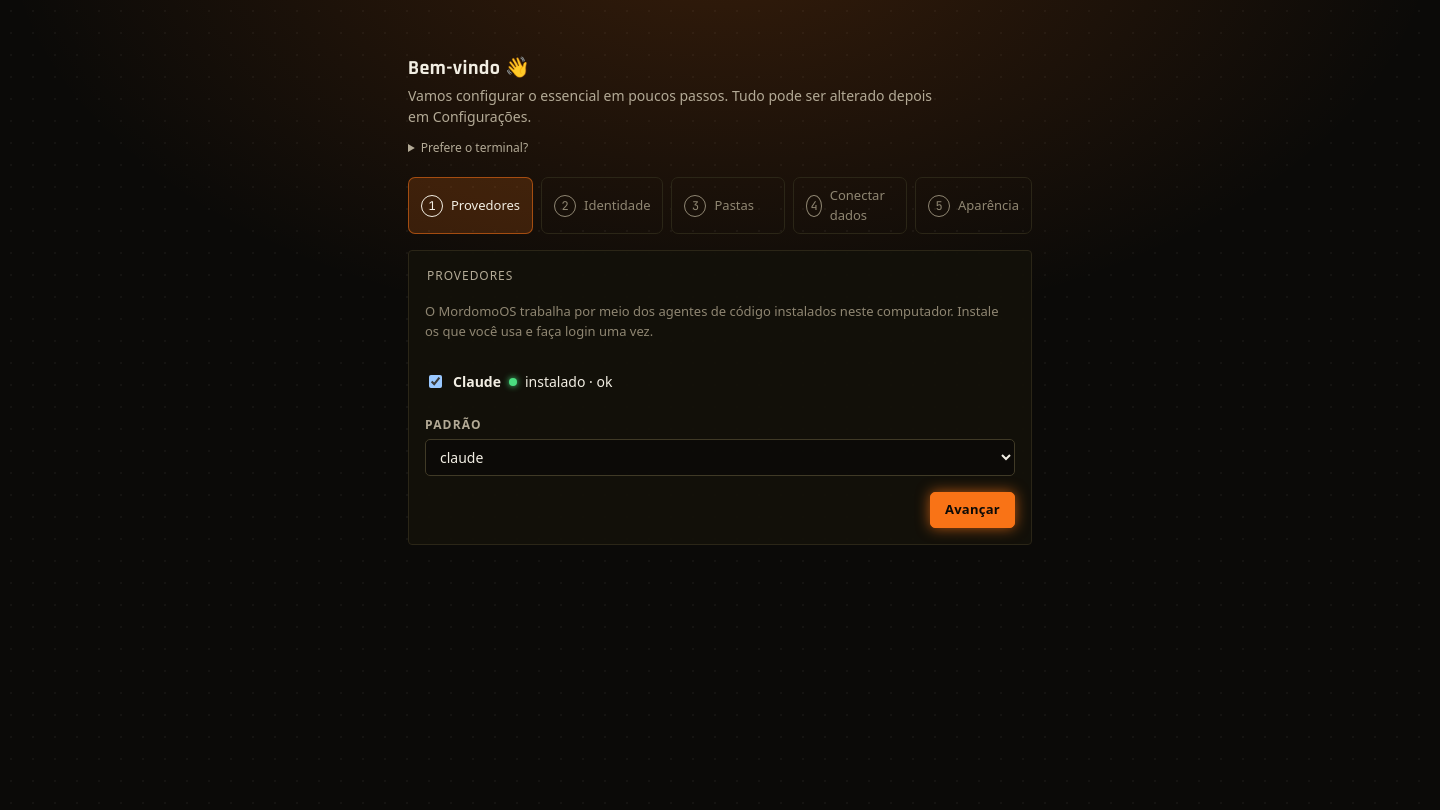
Test case: C10 the steps of the Setup › C10 five steps ending in the appearance, no HUD anywhere (pt-BR)
Click the button "Avançar": [972, 510] box [930, 492, 1015, 528]
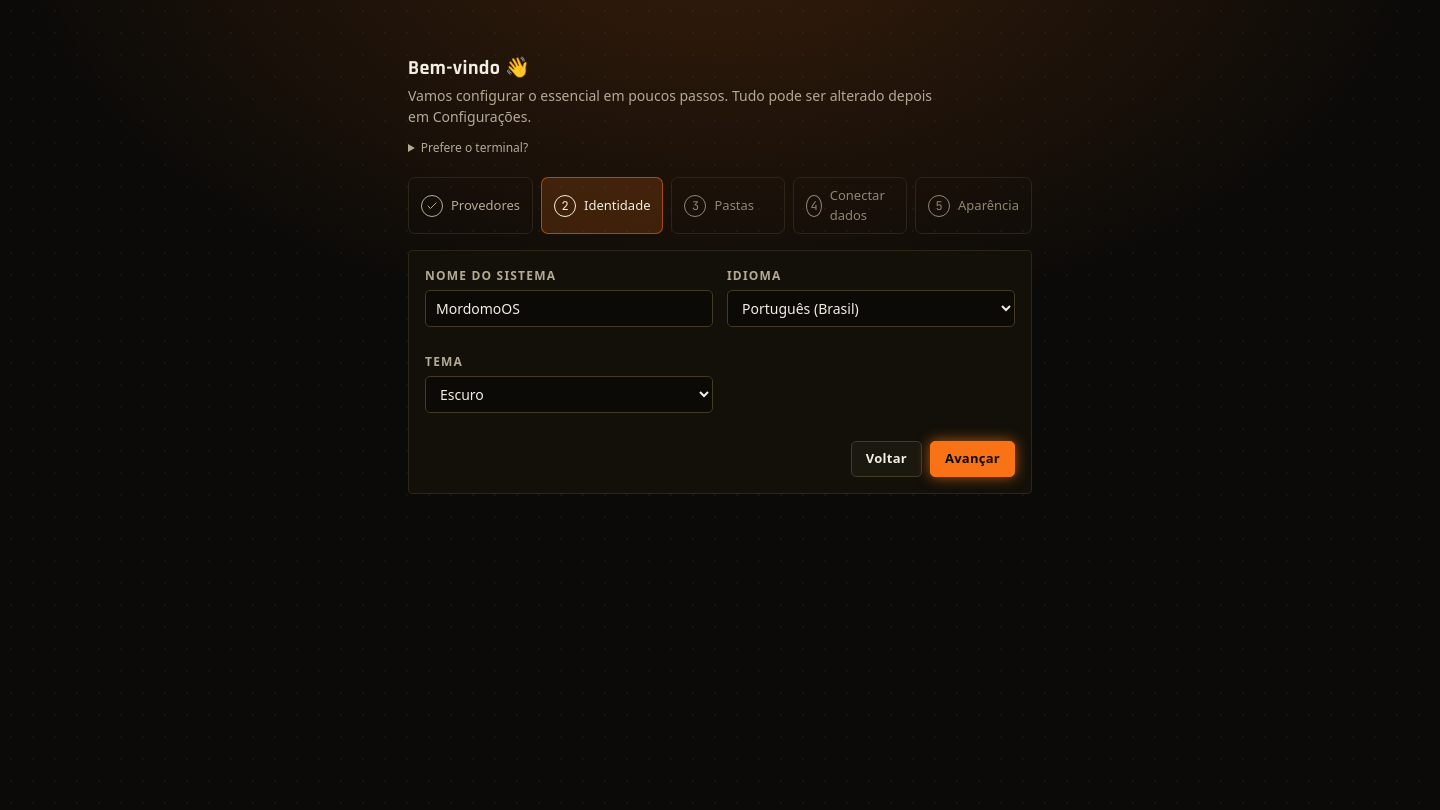
Click the button "Avançar": [972, 459] box [930, 441, 1015, 477]
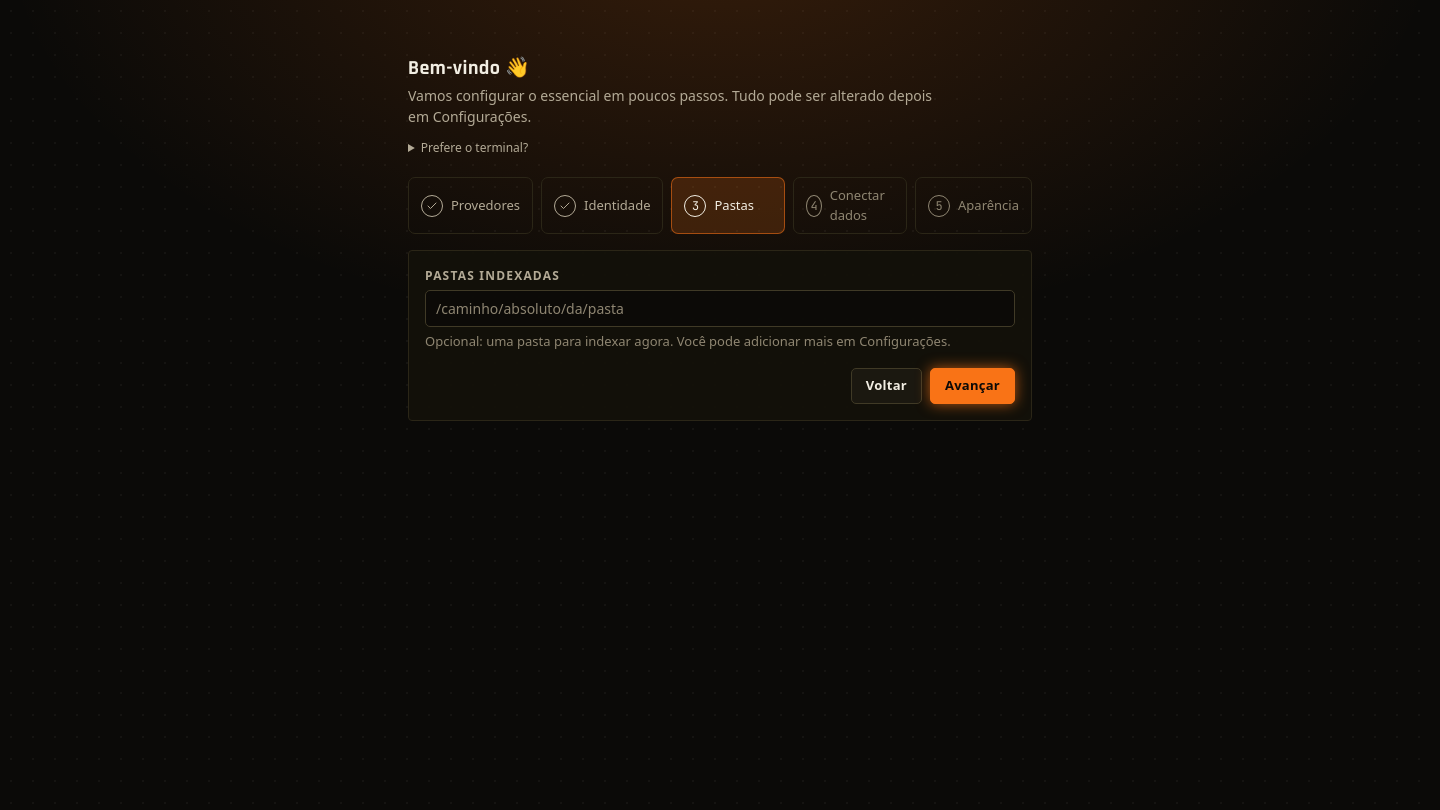
Click the button "Avançar": [972, 386] box [930, 368, 1015, 404]
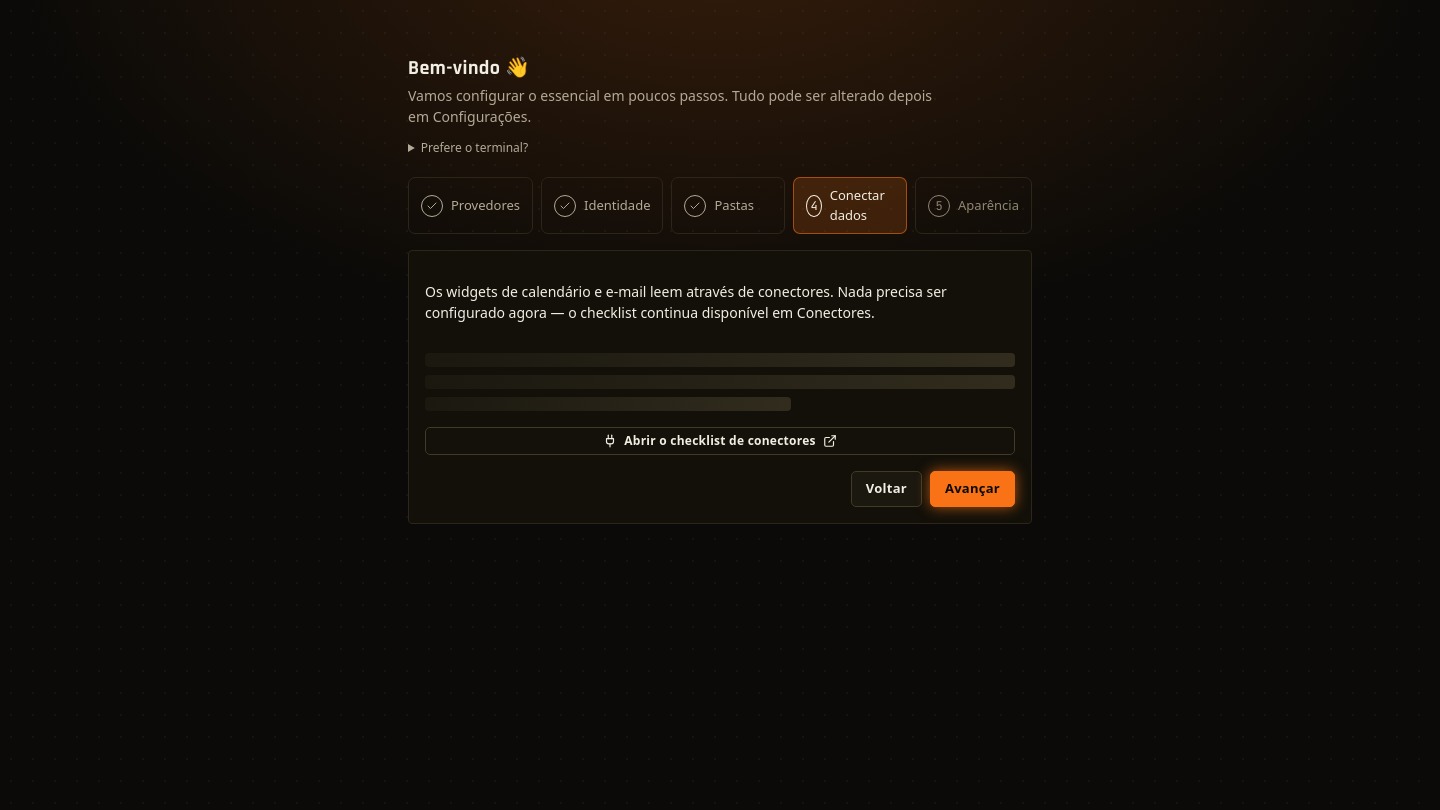
Click the button "Avançar": [972, 489] box [930, 471, 1015, 507]
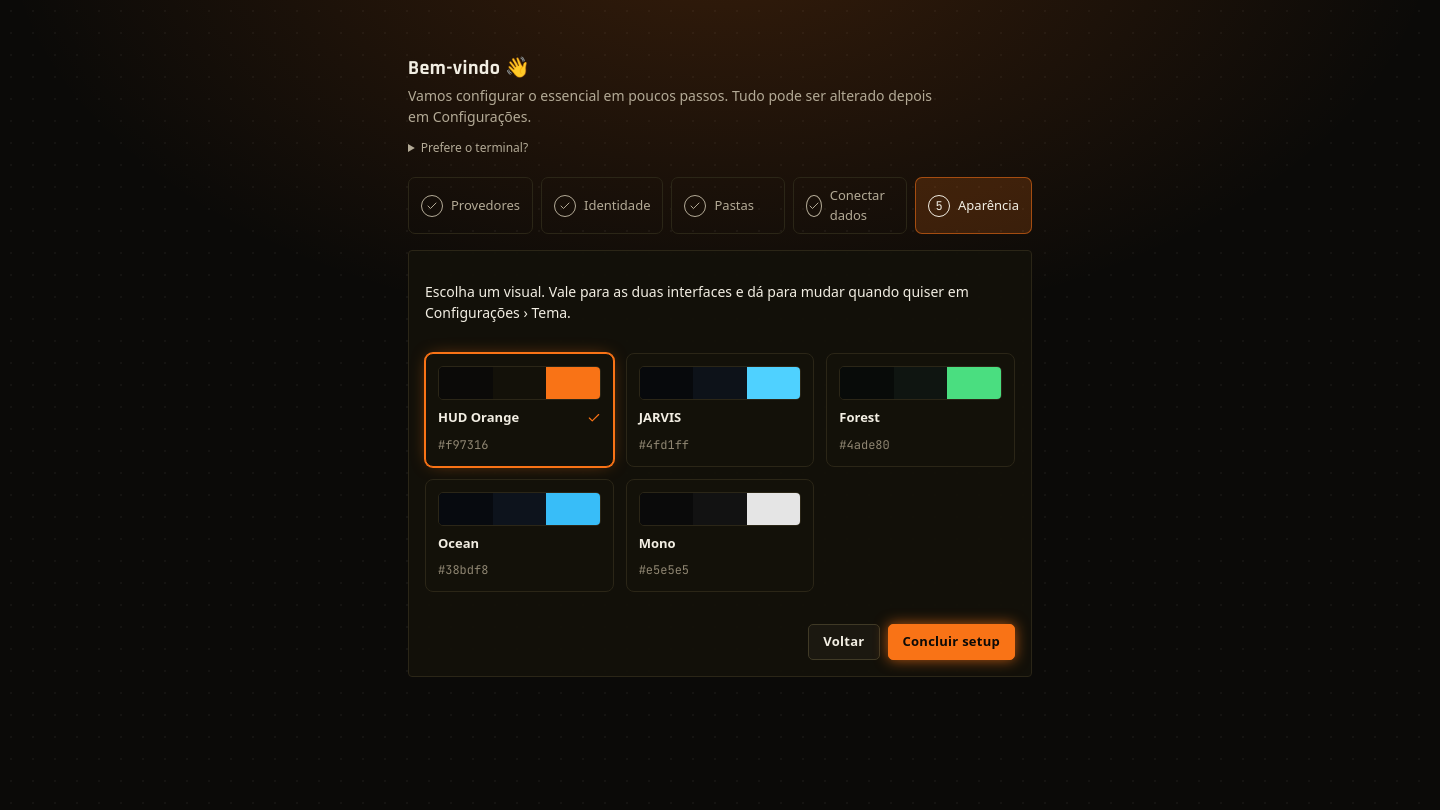
Result: the button "Concluir setup" is shown at [888, 624, 1015, 660]
